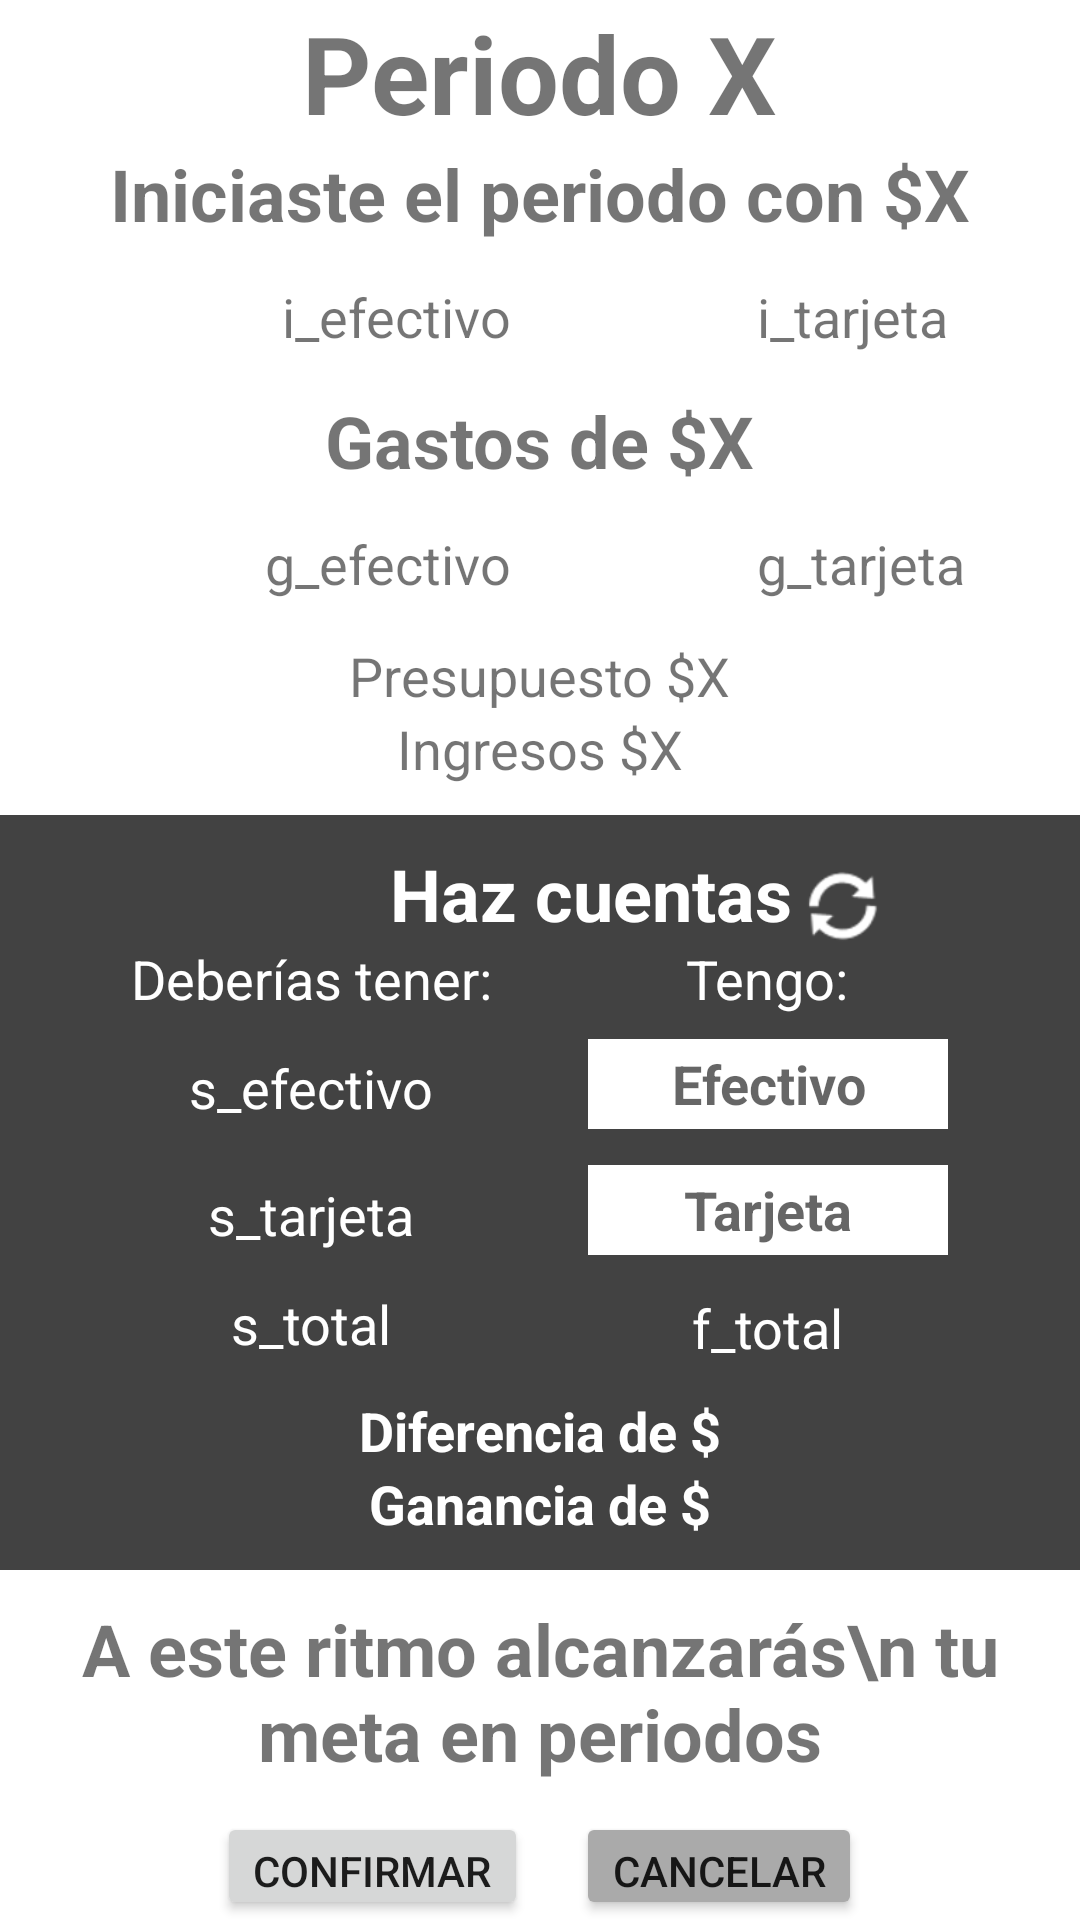

Icon click points for this 1080w x 1920h phone screenshot, format (x=x, y=y):
popup sync: (x=843, y=906)
